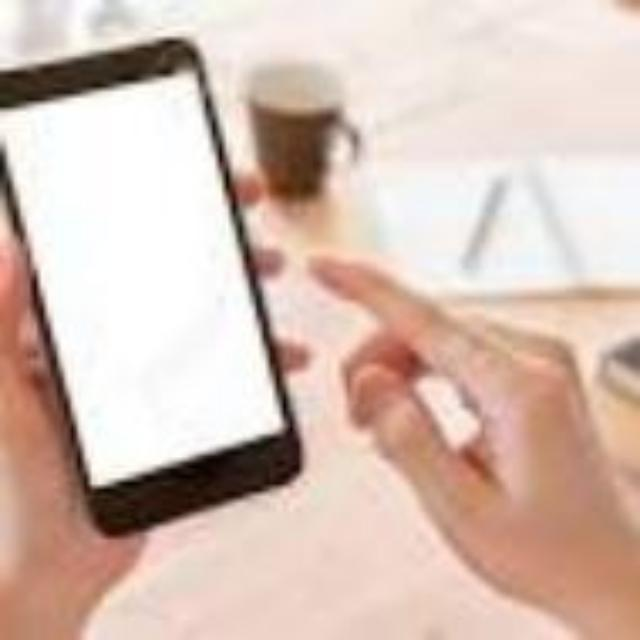PhoneUse: (1, 29, 310, 551)
